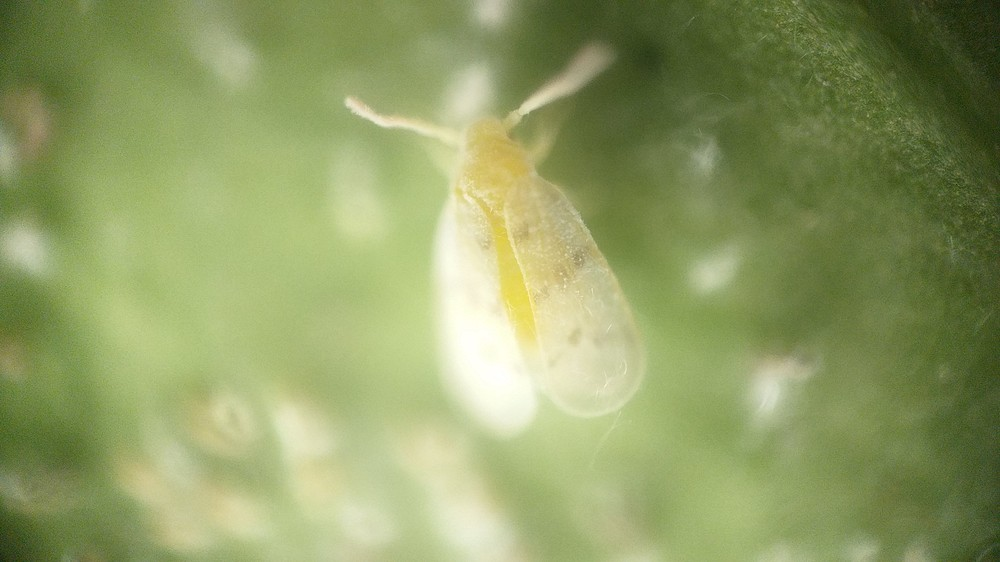Mosca Blanca: (330, 50, 707, 443)
